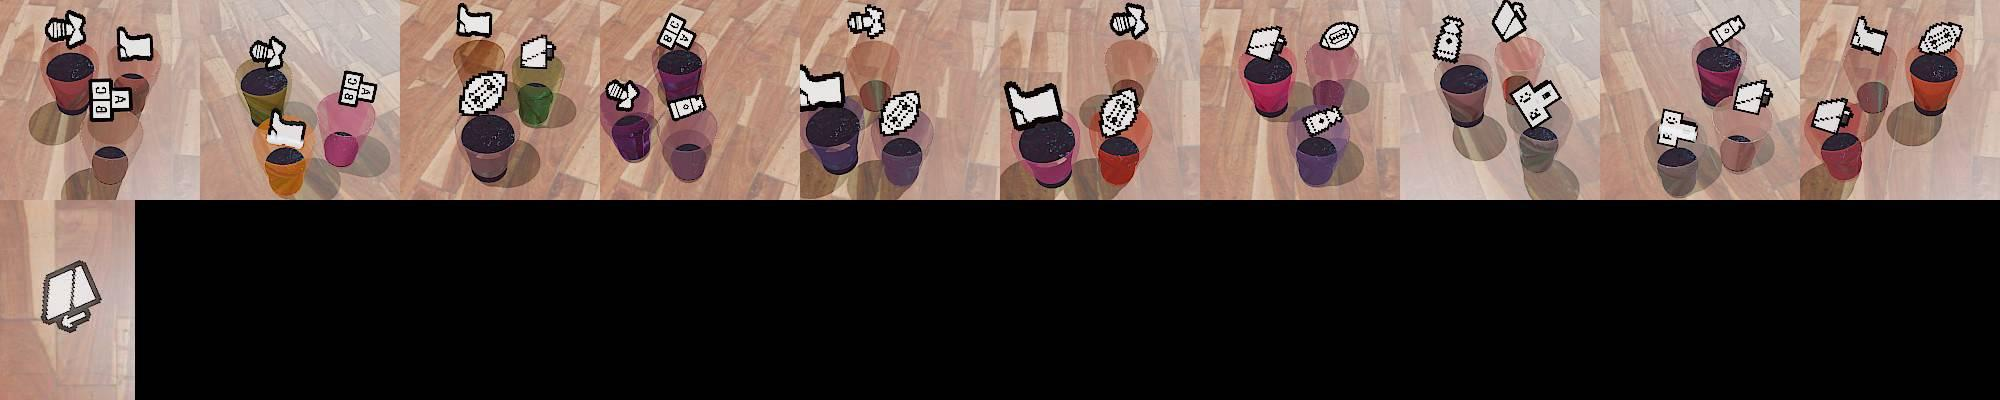icon: (38, 260, 103, 335), (1003, 78, 1064, 129), (1509, 75, 1564, 130), (458, 69, 508, 117), (1097, 87, 1139, 139), (798, 65, 846, 111), (879, 89, 921, 136), (89, 79, 131, 122), (1657, 106, 1700, 146), (265, 108, 306, 150), (656, 10, 696, 52), (45, 10, 88, 50), (1918, 20, 1964, 57), (1848, 15, 1888, 56), (1810, 97, 1852, 135), (1732, 78, 1773, 116), (1246, 24, 1287, 62), (1432, 15, 1464, 64), (1108, 1, 1148, 39), (1301, 103, 1346, 136), (338, 69, 376, 107), (847, 3, 886, 39), (455, 3, 494, 39), (116, 25, 154, 62), (1708, 14, 1745, 48), (249, 37, 287, 70), (1492, 0, 1526, 38), (519, 34, 554, 70), (605, 78, 640, 110), (1320, 20, 1358, 50), (667, 92, 705, 120)
